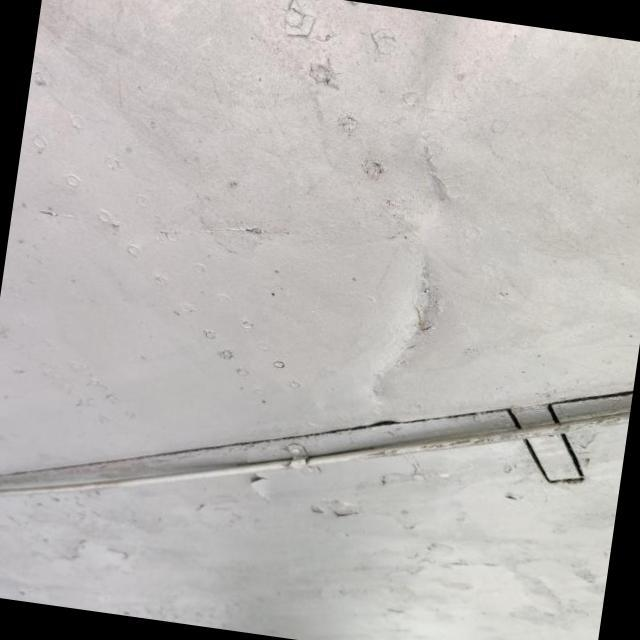Dent: (328, 220, 482, 426)
